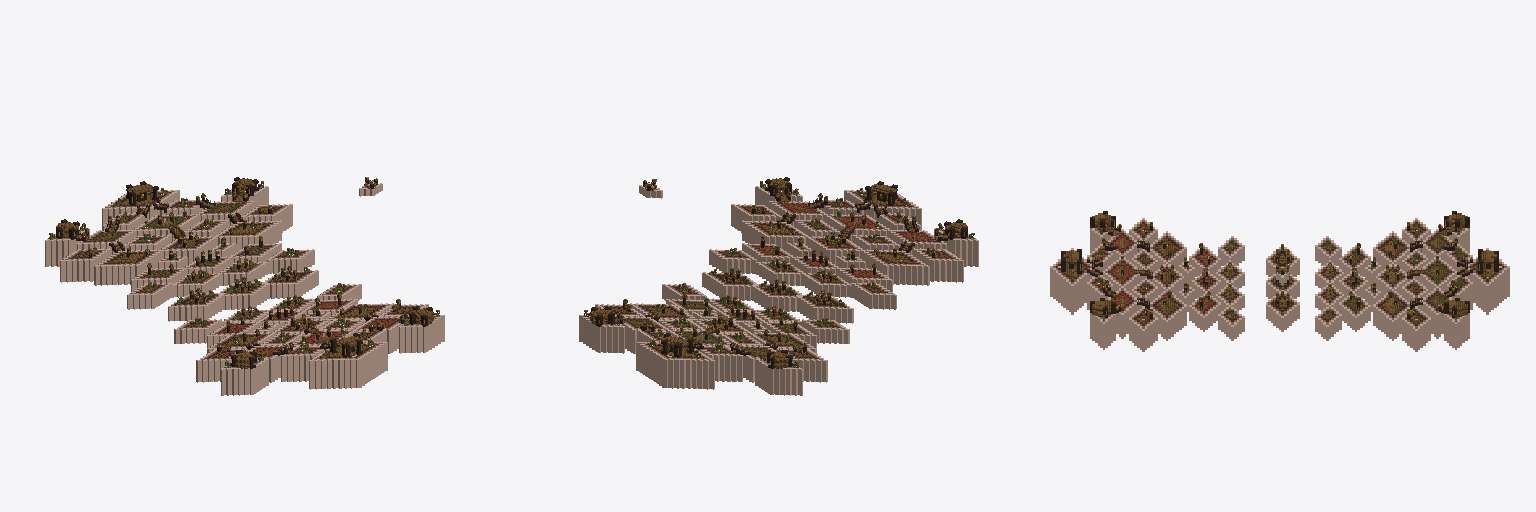
3 views of the same model, side by side, from view 1: azimuth 30°, elevation 25°; view 2: azimuth 150°, elevation 25°; view 3: azimuth 270°, elevation 25° (orthographic).
Bounding box in the file's own units: 112 × 40 × 175.
Materials: 24 (9 with a texture image).